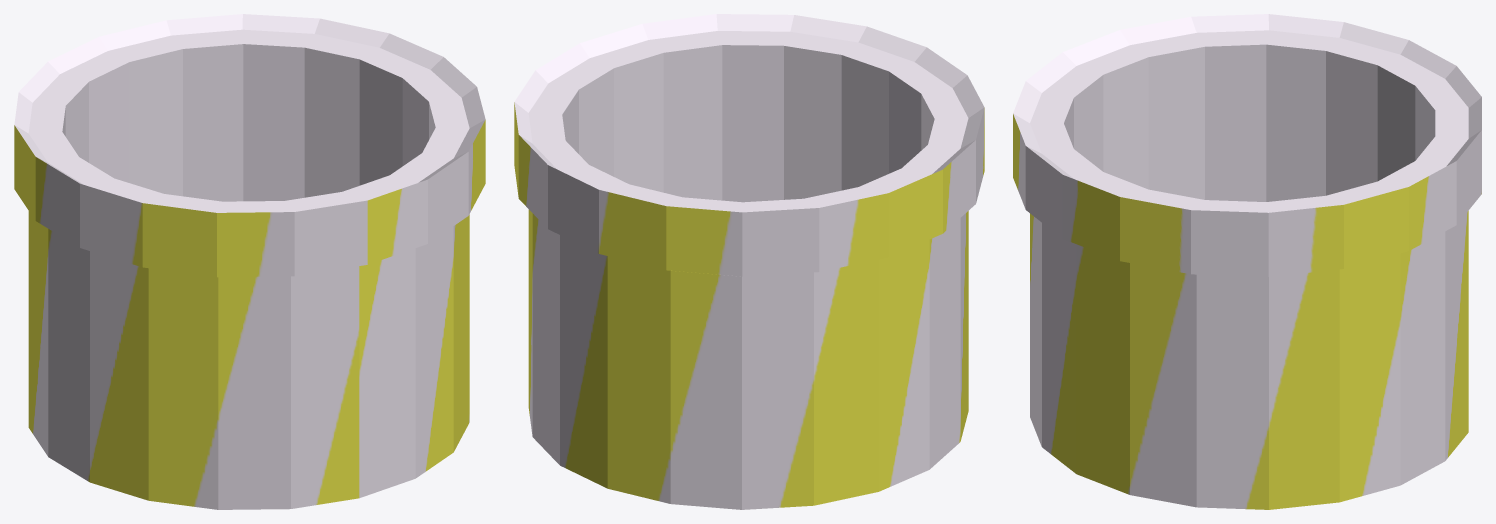
The model's file is Coletor.fbx.
The picture shows the model from 3 angles, left to right: view 1: azimuth 30°, elevation 25°; view 2: azimuth 150°, elevation 25°; view 3: azimuth 270°, elevation 25°; orthographic projection.
Visible parts, largest first — view 1: Cylinder.001; view 2: Cylinder.001; view 3: Cylinder.001.
Boxes of the visible parts, bbox=[...] form: Cylinder.001: bbox=[14, 14, 485, 509]; Cylinder.001: bbox=[514, 14, 984, 509]; Cylinder.001: bbox=[1013, 14, 1481, 509].
Size of the model in its own units: 139 by 98.67 by 138.
Materials: 1 (1 with a texture image).
